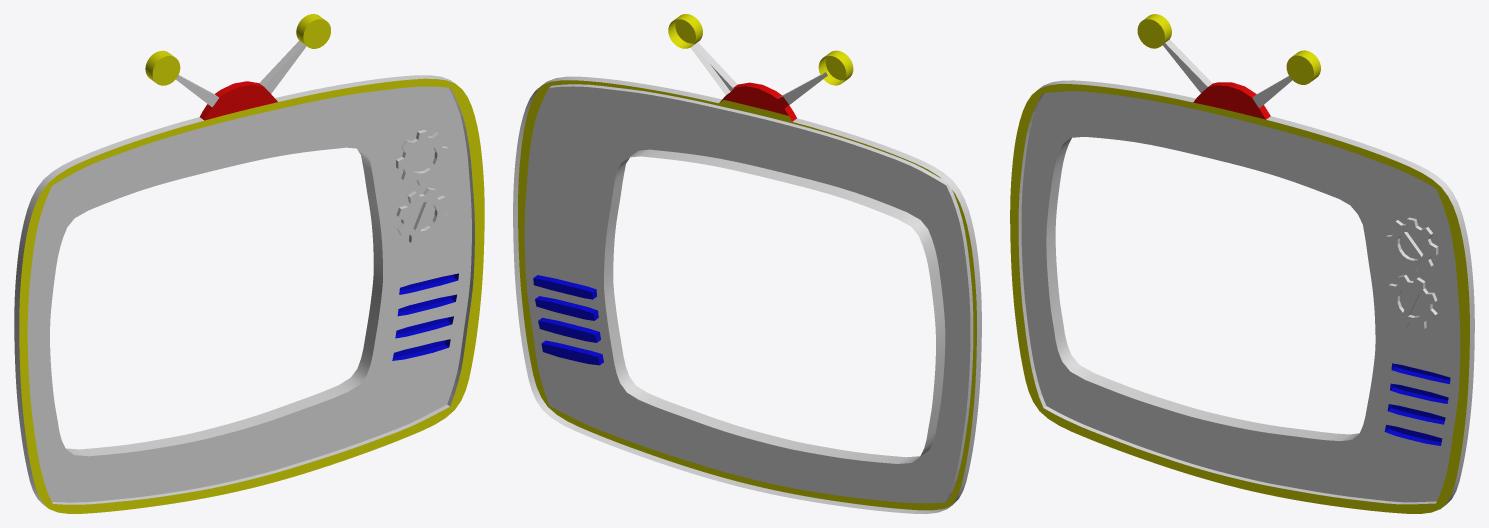
3 views of the same model, side by side, from view 1: azimuth 30°, elevation 25°; view 2: azimuth 150°, elevation 25°; view 3: azimuth 330°, elevation 25° (orthographic).
Parts seen in each view (by area): view 1: pDisc3, pCylinder2, pCylinder1; view 2: pDisc3; view 3: pDisc3, pCylinder1, pCylinder2.
Boxes of the visible parts, x1=… form: pDisc3: x1=14, y1=14, x2=484, y2=513; pCylinder2: x1=396, y1=187, x2=448, y2=243; pCylinder1: x1=396, y1=130, x2=448, y2=185; pDisc3: x1=513, y1=14, x2=981, y2=513; pDisc3: x1=1010, y1=14, x2=1474, y2=513; pCylinder1: x1=1386, y1=217, x2=1438, y2=273; pCylinder2: x1=1386, y1=274, x2=1437, y2=330.
Bounding box in the file's own units: 6.15 × 5.74 × 0.3321.
